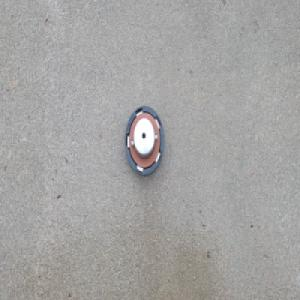FuelCap: (121, 105, 164, 180)
